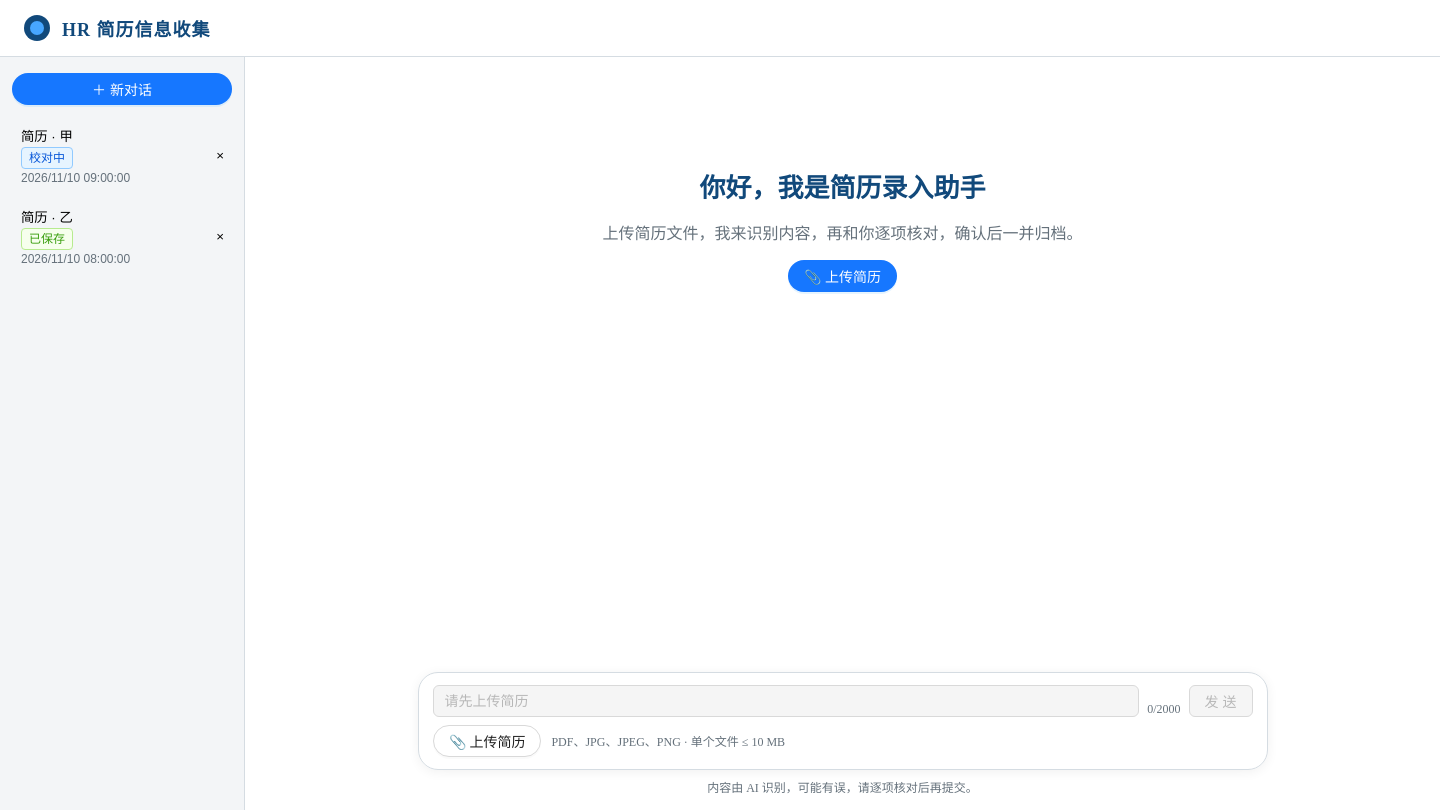
Test case: delete (REQ-FE-05.5) › reviewing: confirmation says information and file are deleted; deleting the current session returns to the empty view
The width and height of the screenshot is (1440, 810).
Step 1. Click the button "简历 · 甲 校对中 2026/11/10 09:00:00" → (108, 156), box [12,117,204,194]
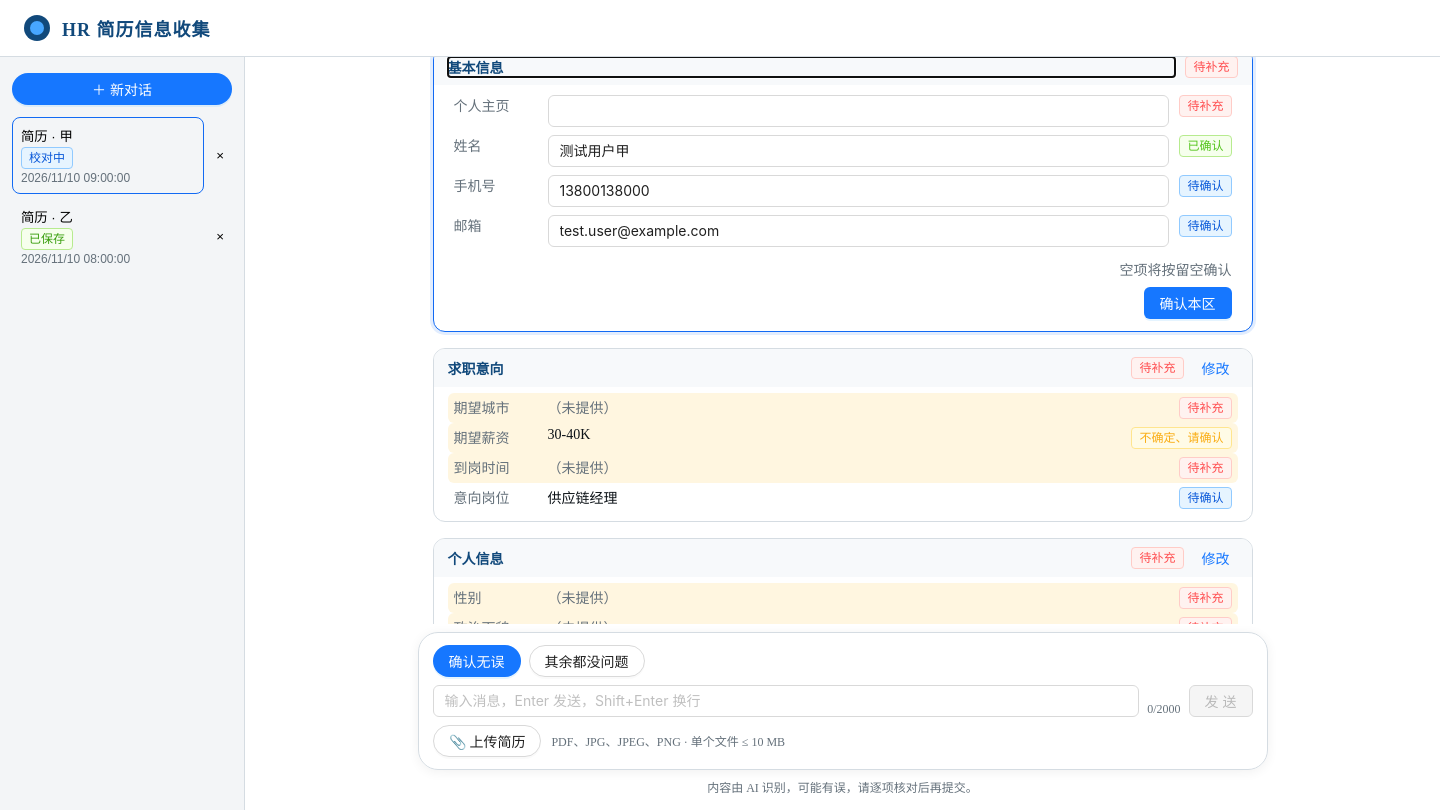
Expected: the heading "基本信息" is shown, [448,61,504,76]
Step 2. Click the button named "删除会话 简历 · 甲" → (220, 156), box [208,117,232,194]
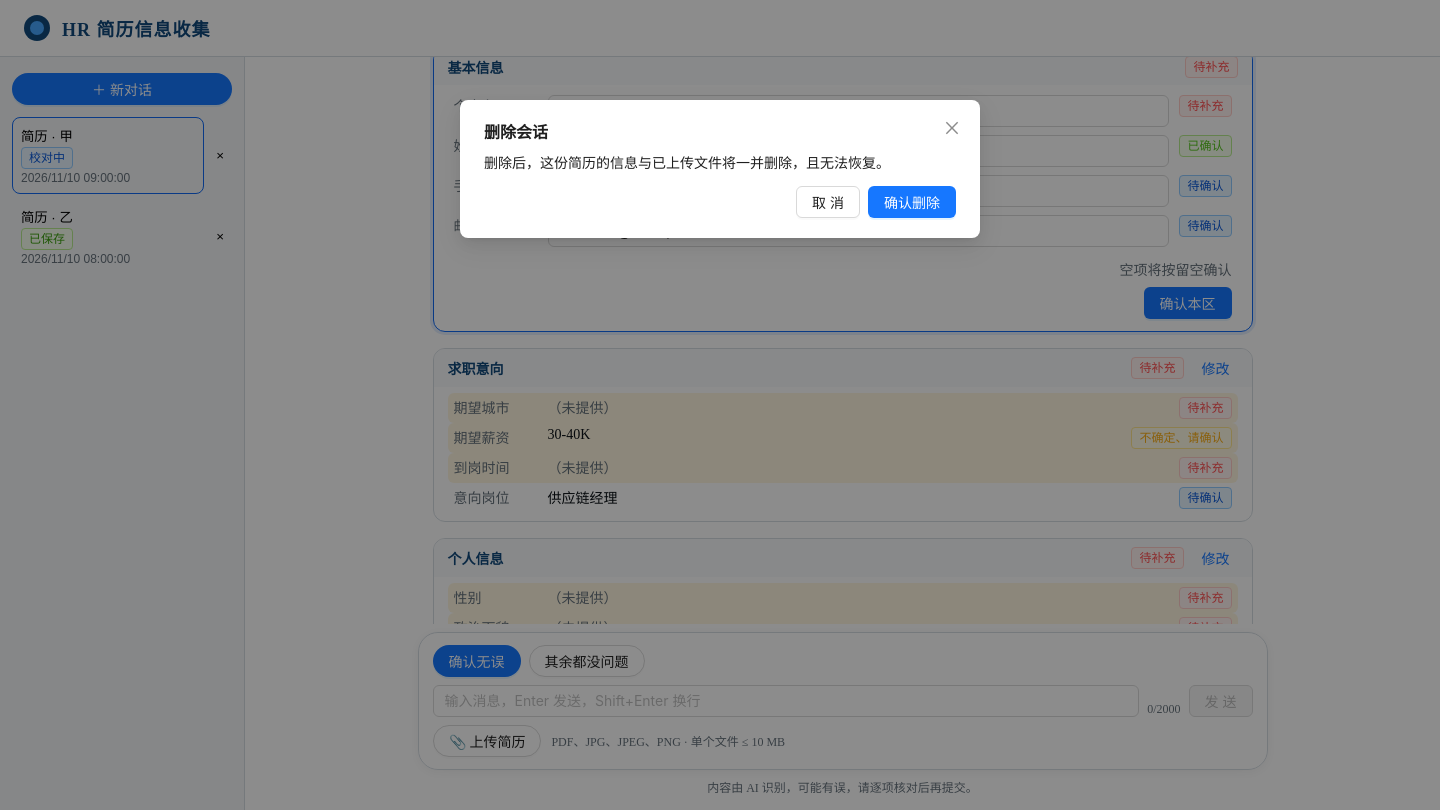
Expected: the dialog shows "信息与已上传文件将一并删除，且无法恢复", [484,154,890,171]
Step 3. Click the button "确认删除" → (912, 202), box [868,186,956,218]
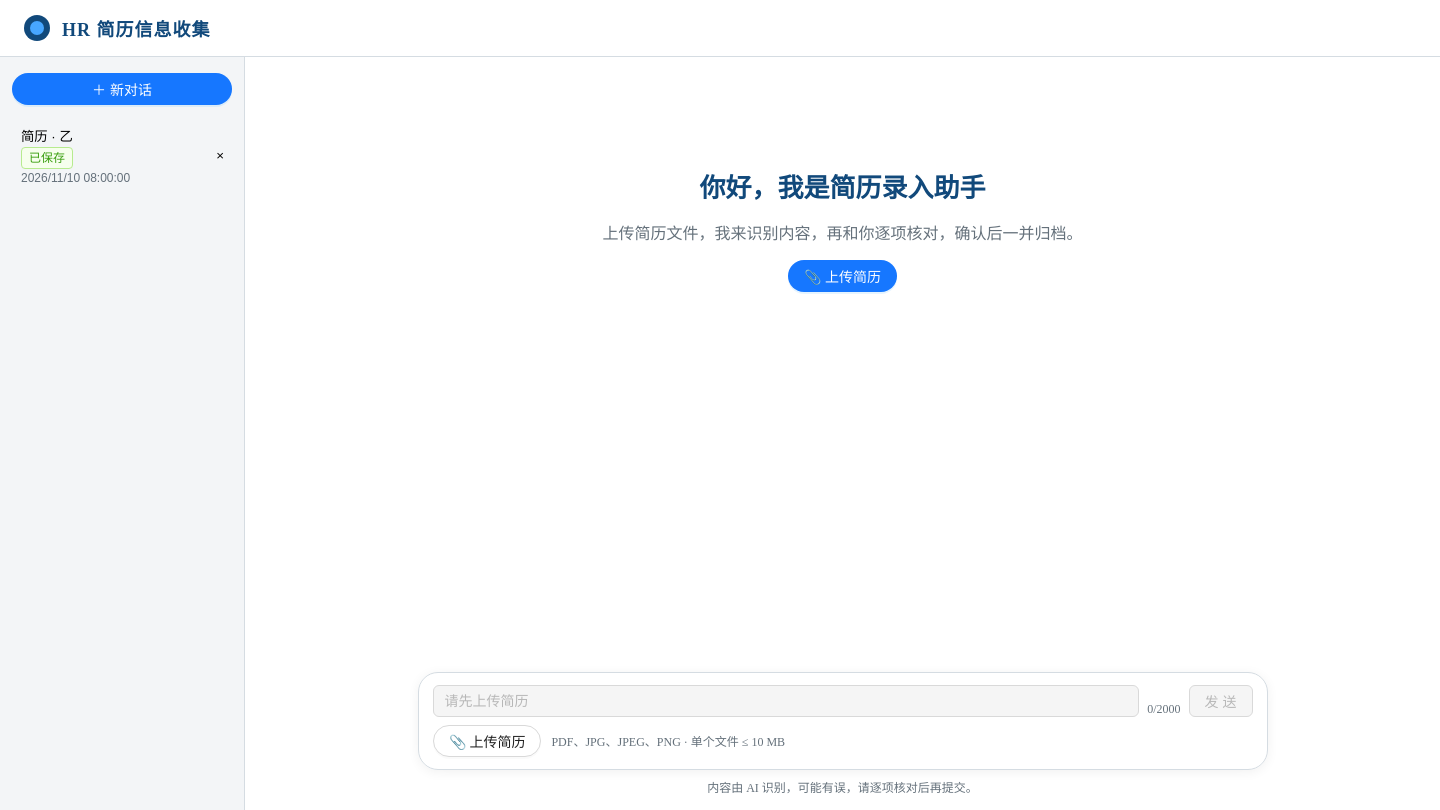
Expected: the heading "基本信息" is gone
Expected: the text "上传简历文件，我来识别内容，再和你逐项核对，确认后一并归档。" is shown, [602,225,1082,242]
